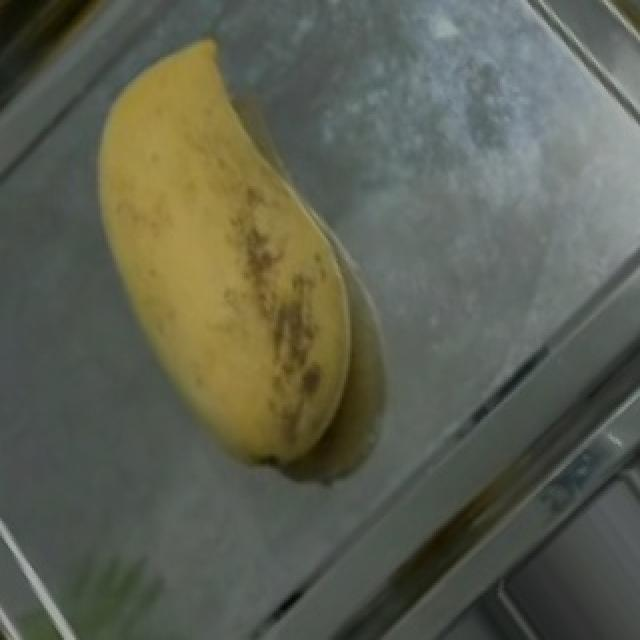fruit: (46, 8, 404, 439)
